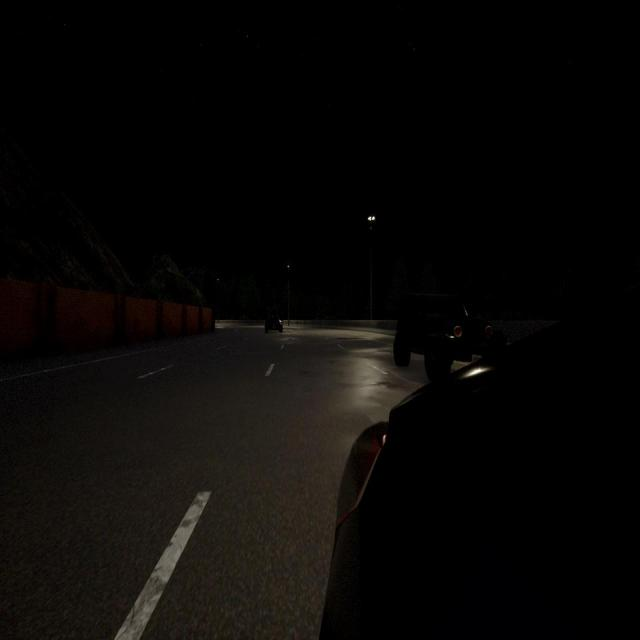Vehicle: (320, 286, 640, 637), (392, 295, 498, 381), (264, 314, 283, 333)
